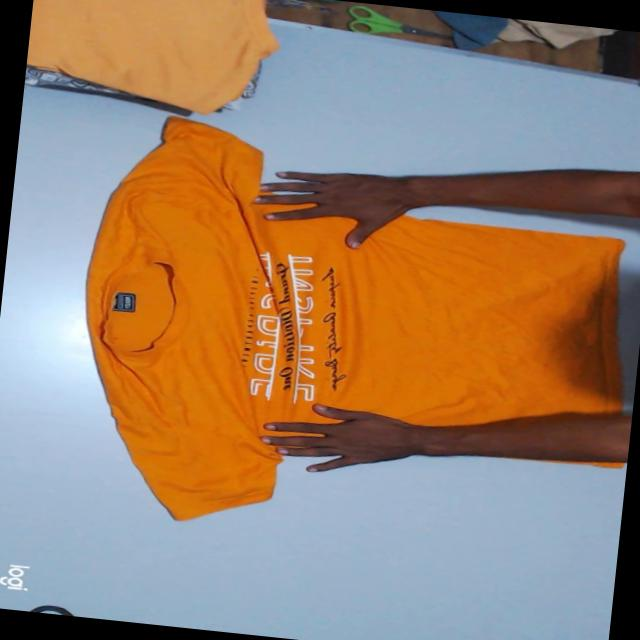new-garment: (85, 116, 623, 519), (548, 459, 623, 468)
